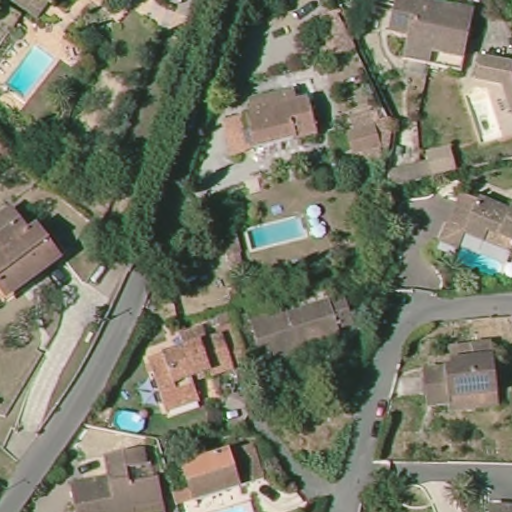pool: (4, 44, 62, 105), (235, 211, 309, 254), (447, 239, 507, 283), (107, 405, 152, 432)
